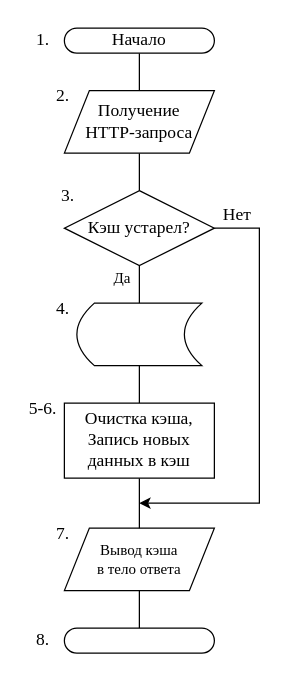
This 291x680 diagram has some shape labels left out. Each missing label, with the centre of its shape:
"Запрос № групп из БД" goes at pixel 139 334.
"Конец" goes at pixel 138 640.
